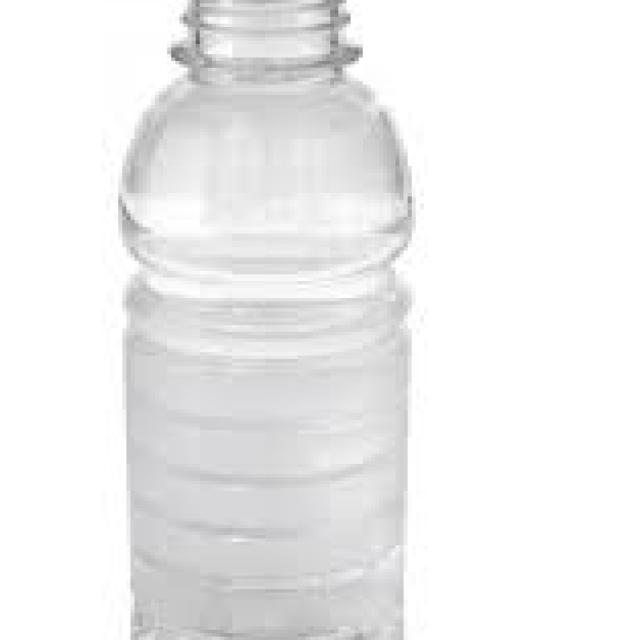organic: (101, 3, 434, 635)
